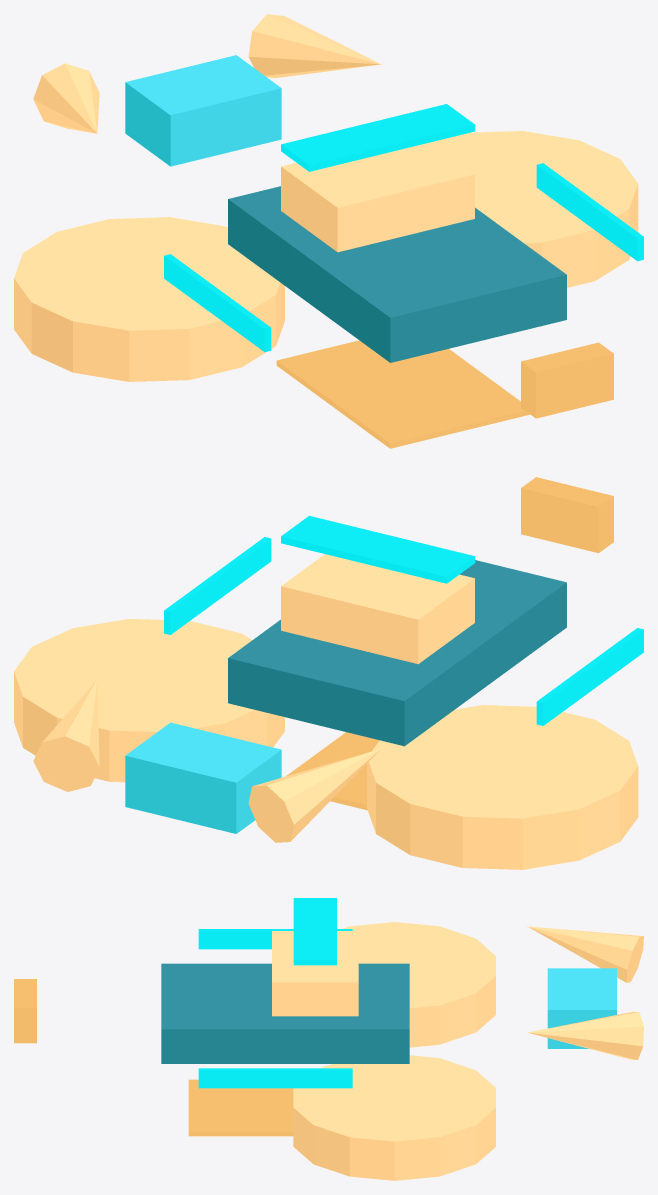
Rendered from inferno.glb.
3 views of the same model, one above another, from view 1: azimuth 30°, elevation 25°; view 2: azimuth 150°, elevation 25°; view 3: azimuth 270°, elevation 25° (orthographic). The views are drawn at different scales.
Parts seen in each view (by area): view 1: wheel_l, chassis, wheel_r, trail_underglow, canopy_wheel, body_nose, glow_strip_roof, emitter, wheel_spike.001, wheel_spike, glow_strip_side.001, glow_strip_side; view 2: wheel_l, chassis, wheel_r, canopy_wheel, body_nose, glow_strip_roof, emitter, wheel_spike, wheel_spike.001, glow_strip_side, glow_strip_side.001, trail_underglow; view 3: chassis, wheel_r, wheel_l, canopy_wheel, trail_underglow, body_nose, glow_strip_side.001, wheel_spike.001, wheel_spike, glow_strip_roof, glow_strip_side, emitter.
Part boxes in pixels (x1,y1,x2,y2): wheel_l: [14, 217, 284, 381]; chassis: [228, 186, 566, 362]; wheel_r: [431, 131, 638, 287]; trail_underglow: [276, 340, 529, 448]; canopy_wheel: [281, 142, 474, 252]; body_nose: [125, 55, 281, 166]; glow_strip_roof: [281, 104, 475, 171]; emitter: [521, 342, 613, 418]; wheel_spike.001: [248, 14, 381, 77]; wheel_spike: [33, 63, 99, 133]; glow_strip_side.001: [536, 163, 643, 261]; glow_strip_side: [164, 254, 271, 351]; wheel_l: [367, 705, 638, 869]; chassis: [228, 560, 566, 746]; wheel_r: [14, 619, 284, 782]; canopy_wheel: [281, 554, 474, 664]; body_nose: [125, 722, 281, 833]; glow_strip_roof: [281, 515, 475, 583]; emitter: [521, 477, 613, 553]; wheel_spike: [248, 748, 381, 842]; wheel_spike.001: [33, 679, 99, 791]; glow_strip_side: [536, 628, 643, 725]; glow_strip_side.001: [164, 537, 271, 634]; trail_underglow: [286, 732, 379, 810]; chassis: [161, 963, 409, 1063]; wheel_r: [293, 1055, 495, 1180]; wheel_l: [342, 922, 495, 1047]; canopy_wheel: [272, 931, 358, 1016]; trail_underglow: [188, 1079, 293, 1136]; body_nose: [547, 968, 616, 1048]; glow_strip_side.001: [198, 1068, 352, 1088]; wheel_spike.001: [528, 1011, 643, 1059]; wheel_spike: [527, 926, 643, 982]; glow_strip_roof: [293, 898, 336, 965]; glow_strip_side: [198, 929, 352, 949]; emitter: [14, 979, 36, 1043].
Size of the model in its own units: 0.9 by 0.3456 by 1.09.
